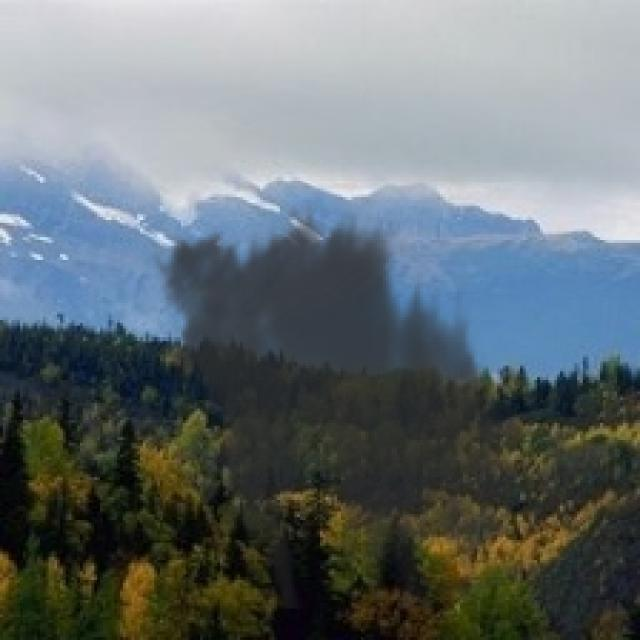smoke: (143, 197, 534, 609)
